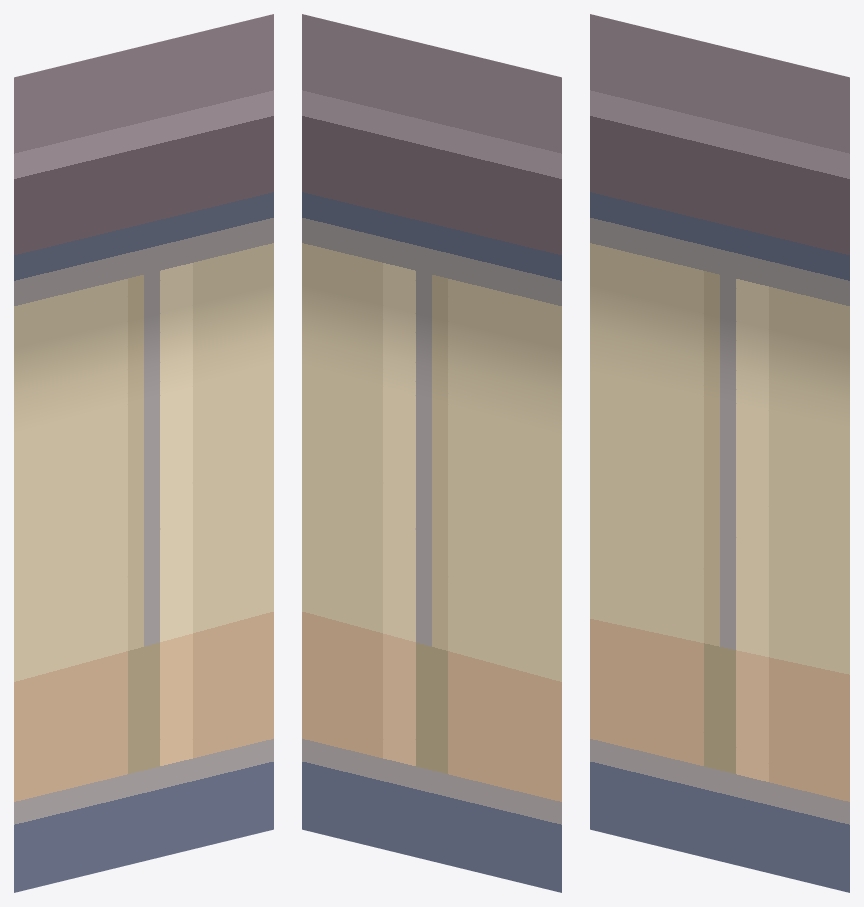
The picture shows the model from 3 angles, left to right: view 1: azimuth 30°, elevation 25°; view 2: azimuth 150°, elevation 25°; view 3: azimuth 330°, elevation 25°; orthographic projection.
Size of the model in its own units: 1 by 3 by 0.
Materials: 1 (1 with a texture image).
